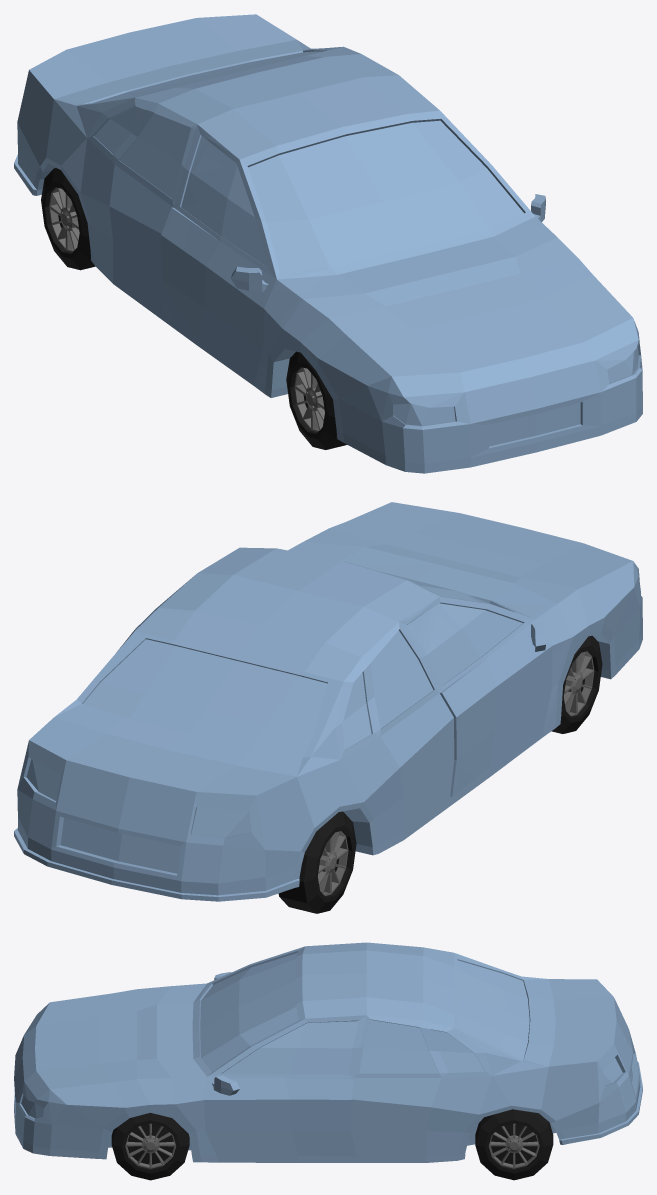
The model's file is citypack-car.glb.
3 renders of one model, top to bottom at view 1: azimuth 30°, elevation 25°; view 2: azimuth 150°, elevation 25°; view 3: azimuth 270°, elevation 25°, orthographic. The views are drawn at different scales.
Visible parts, largest first — view 1: body, Door_FL, wheel-back-left, wheel-front-left, wheel-back-left.1, wheel-front-left.1; view 2: body, Door_FL, wheel-back-left, wheel-front-left, wheel-back-left.1, wheel-front-left.1; view 3: body, wheel-back-right, wheel-front-right, wheel-back-right.1, wheel-front-right.1.
Part boxes in pixels (<box>): body: <box>14,14,642,473</box>; Door_FL: <box>164,138,281,392</box>; wheel-back-left: <box>41,168,95,270</box>; wheel-front-left: <box>286,351,346,449</box>; wheel-back-left.1: <box>49,187,79,252</box>; wheel-front-left.1: <box>294,367,324,432</box>; body: <box>14,502,642,901</box>; Door_FL: <box>413,596,556,792</box>; wheel-back-left: <box>278,811,356,913</box>; wheel-front-left: <box>551,635,602,733</box>; wheel-back-left.1: <box>318,831,348,895</box>; wheel-front-left.1: <box>563,651,594,716</box>; body: <box>14,942,642,1162</box>; wheel-back-right: <box>475,1109,553,1180</box>; wheel-front-right: <box>111,1112,189,1180</box>; wheel-back-right.1: <box>488,1123,539,1168</box>; wheel-front-right.1: <box>125,1123,176,1168</box>.
Size of the model in its own units: 1.81 by 1.18 by 4.22.
